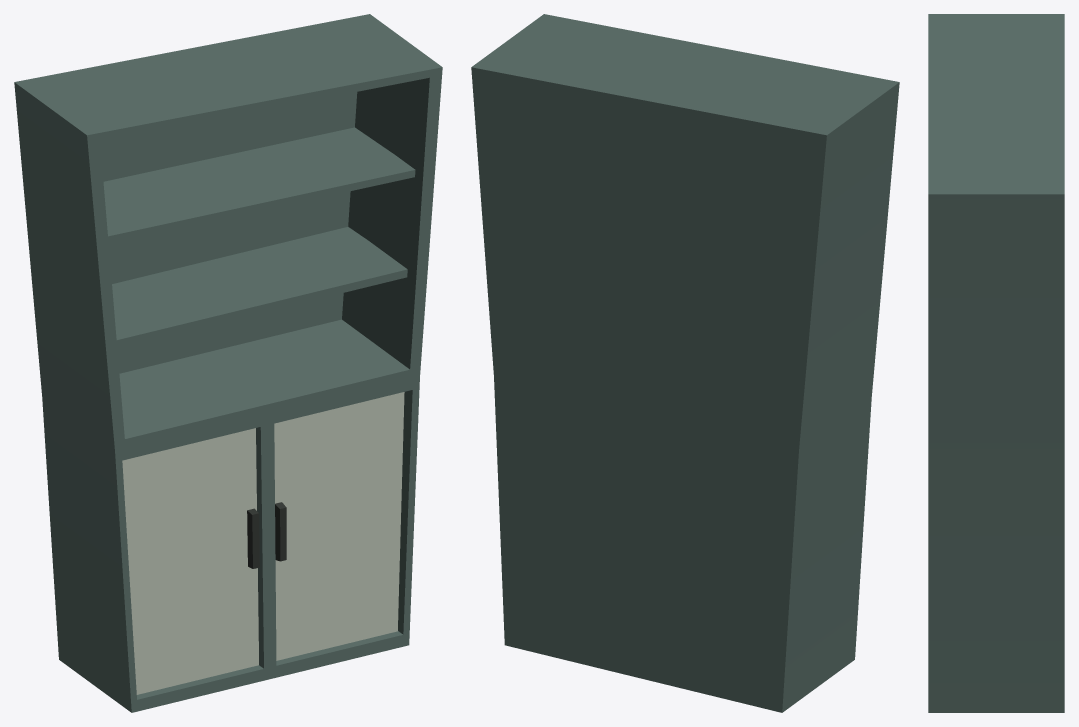
Rendered from childerns room bookshalf.fbx.
The picture shows the model from 3 angles, left to right: view 1: azimuth 30°, elevation 25°; view 2: azimuth 150°, elevation 25°; view 3: azimuth 270°, elevation 25°; orthographic projection. The views are drawn at different scales.
Visible parts, largest first — view 1: stuff children bookshalf.001, stuff children bookshalf, stuff children bookshalf.002; view 2: stuff children bookshalf.001; view 3: stuff children bookshalf.001.
Part boxes in pixels (x1,y1,x2,y2): stuff children bookshalf.001: [14, 14, 442, 712]; stuff children bookshalf: [122, 428, 259, 694]; stuff children bookshalf.002: [274, 392, 404, 660]; stuff children bookshalf.001: [471, 14, 899, 712]; stuff children bookshalf.001: [928, 14, 1064, 712].
Bounding box in the file's own units: 1.96 × 3.09 × 0.6933.
